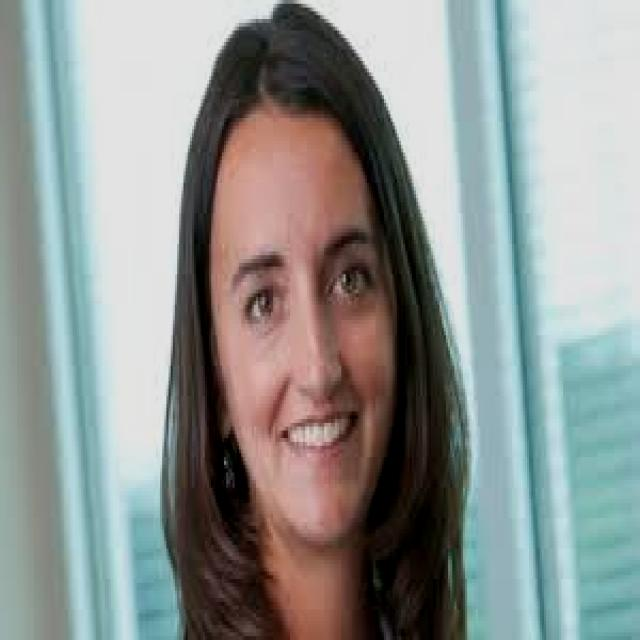normal_face: (198, 51, 439, 560)
